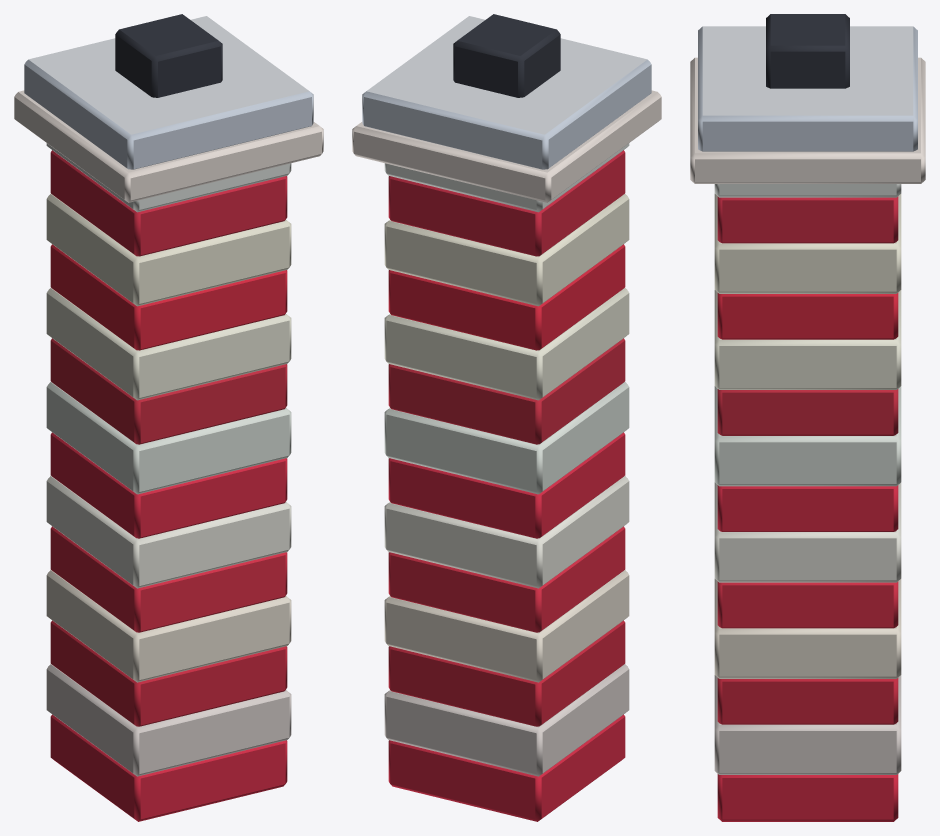
The model's file is CandyHouse_Pink_Chimney.glb.
3 renders of one model, left to right at view 1: azimuth 30°, elevation 25°; view 2: azimuth 150°, elevation 25°; view 3: azimuth 270°, elevation 25°, orthographic. The views are drawn at different scales.
Parts seen in each view (by area): view 1: CandyHouse_Pink_Chimney; view 2: CandyHouse_Pink_Chimney; view 3: CandyHouse_Pink_Chimney.
Part boxes in pixels (x1,y1,x2,y2): CandyHouse_Pink_Chimney: (14, 14, 323, 821); CandyHouse_Pink_Chimney: (352, 14, 661, 821); CandyHouse_Pink_Chimney: (690, 14, 925, 821).
Size of the model in its own units: 3.1 by 10.99 by 3.1.
